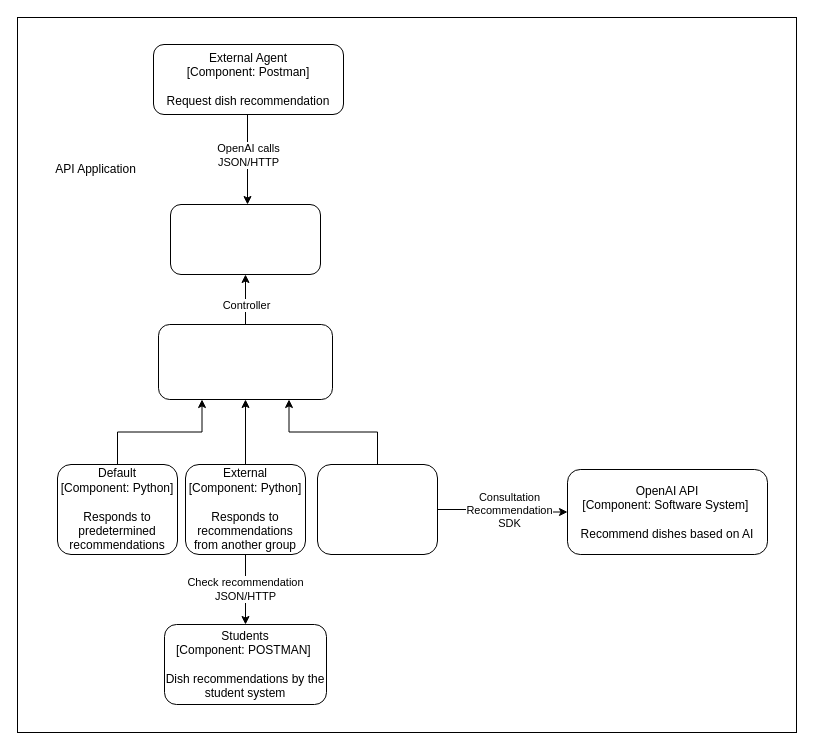
Image size: 814x750. Some labels were removed from this diagram. Here are the shapes that lost their labels. From the top down, the centre of each, then its label:
pixel 245 239: Endpoints [Component: Django] Request Handler
pixel 245 362: Recommendations Format [Component: REST] Receive request and format response
pixel 377 509: Artificial [Component: Python] Responds with AI recommendations
